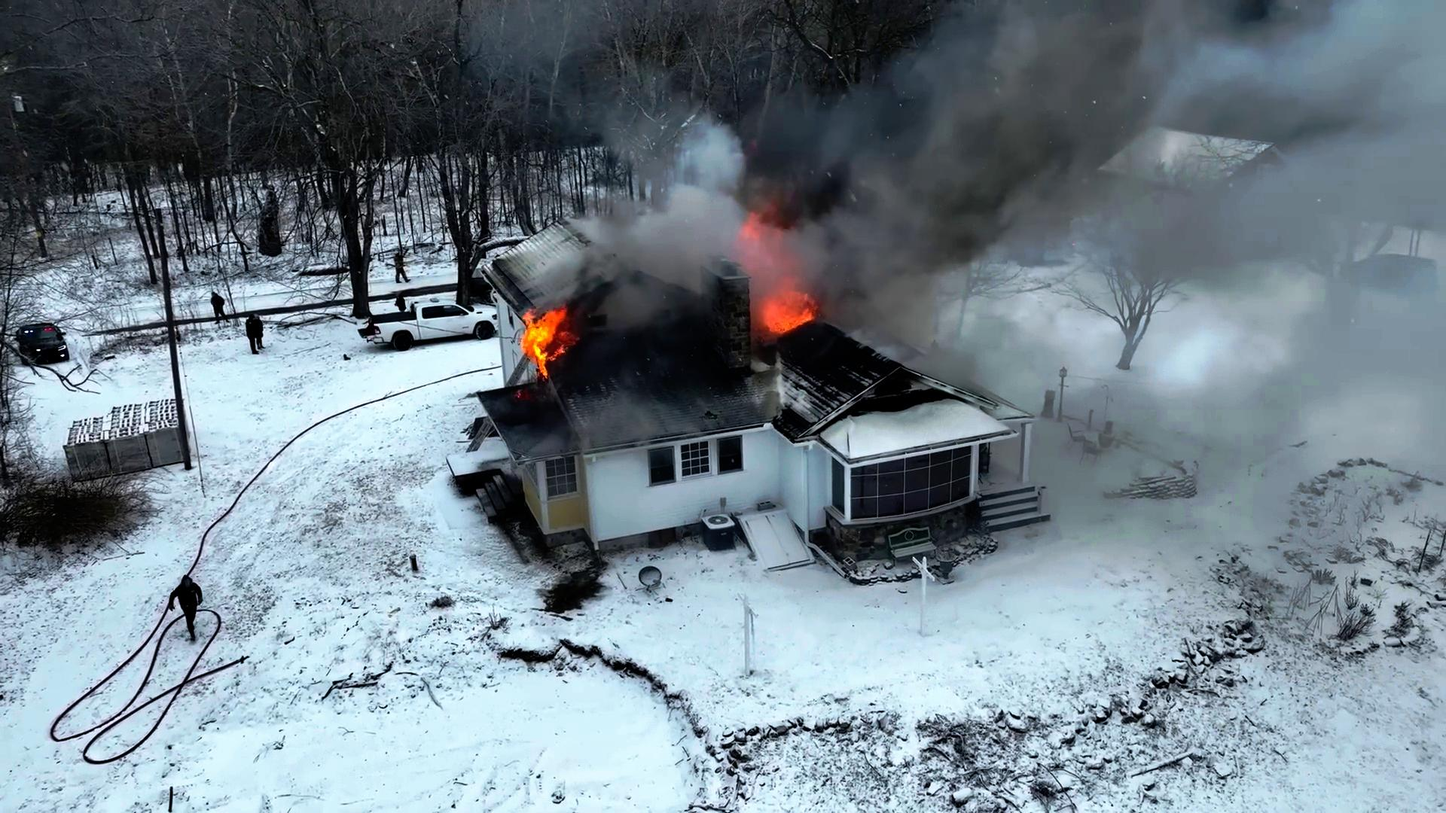fire: (512, 292, 570, 362)
smoke: (919, 85, 1129, 261)
